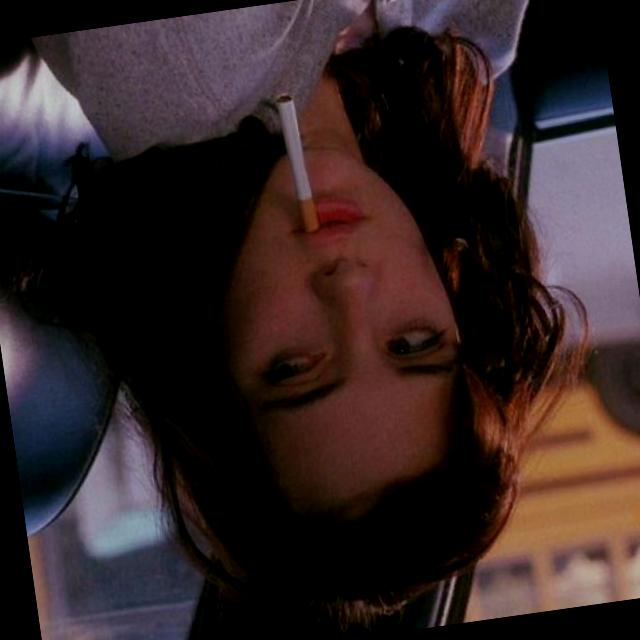smoke: (248, 54, 355, 265)
